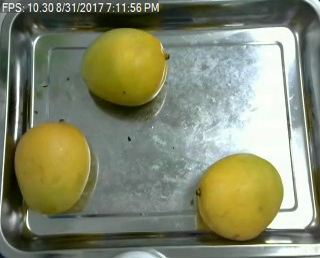Mango: (78, 25, 175, 111), (9, 120, 93, 213), (199, 150, 282, 244)
